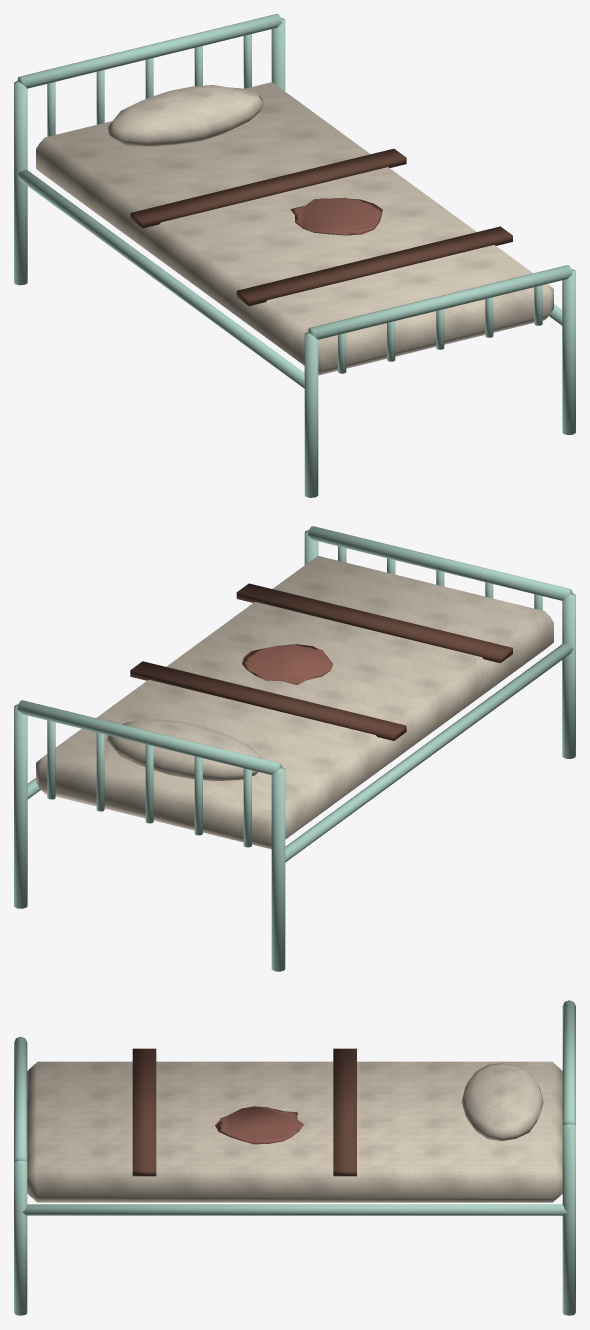
The model's file is LitHopital.glb.
The picture shows the model from 3 angles, top to bottom: view 1: azimuth 30°, elevation 25°; view 2: azimuth 150°, elevation 25°; view 3: azimuth 270°, elevation 25°; orthographic projection. The views are drawn at different scales.
Parts seen in each view (by area): view 1: Matelas, Cadre, Sangles, Oreiller, Tache; view 2: Matelas, Cadre, Sangles, Oreiller, Tache; view 3: Matelas, Cadre, Sangles, Oreiller, Tache.
Boxes of the visible parts, left/top/right/bottom form: Matelas: left=36, top=82, right=553, bottom=375; Cadre: left=14, top=14, right=575, bottom=497; Sangles: left=130, top=148, right=512, bottom=305; Oreiller: left=107, top=85, right=263, bottom=146; Tache: left=290, top=197, right=382, bottom=235; Matelas: left=36, top=556, right=553, bottom=849; Cadre: left=14, top=526, right=575, bottom=971; Sangles: left=130, top=583, right=512, bottom=740; Oreiller: left=107, top=719, right=261, bottom=781; Tache: left=242, top=644, right=333, bottom=684; Matelas: left=27, top=1061, right=562, bottom=1202; Cadre: left=14, top=1000, right=575, bottom=1315; Sangles: left=132, top=1048, right=356, bottom=1176; Oreiller: left=461, top=1063, right=543, bottom=1141; Tache: left=215, top=1106, right=303, bottom=1144.
Size of the model in its own units: 0.88 by 0.644 by 1.68.
Materials: 4 (2 with a texture image).
